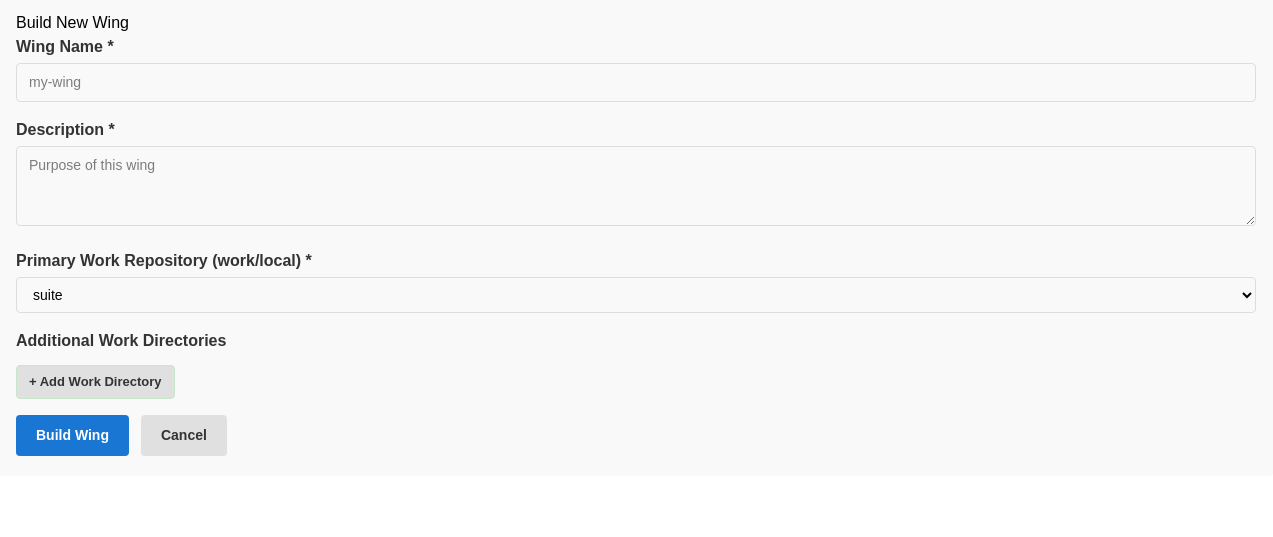
Scenario: WingCreateForm › shows error on failure
Type "new-wing" into the field labelled "Wing Name *" at (636, 82), box top-left (16, 63), bottom-right (1256, 102)
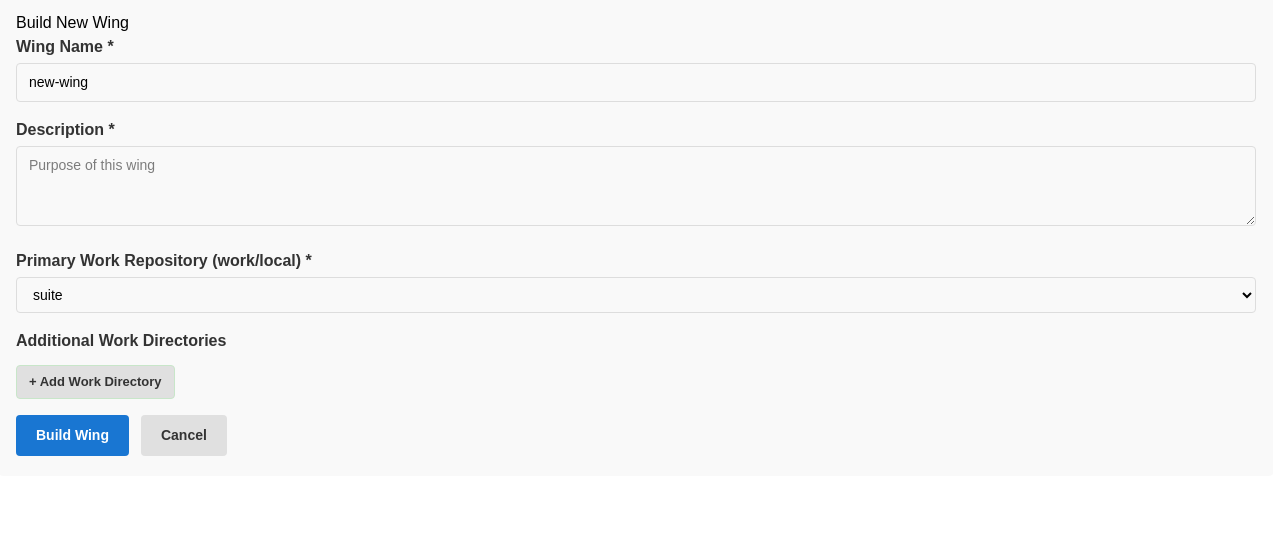
Type "A new wing" into the text box labelled "Description *" at (636, 186), box top-left (16, 146), bottom-right (1256, 226)
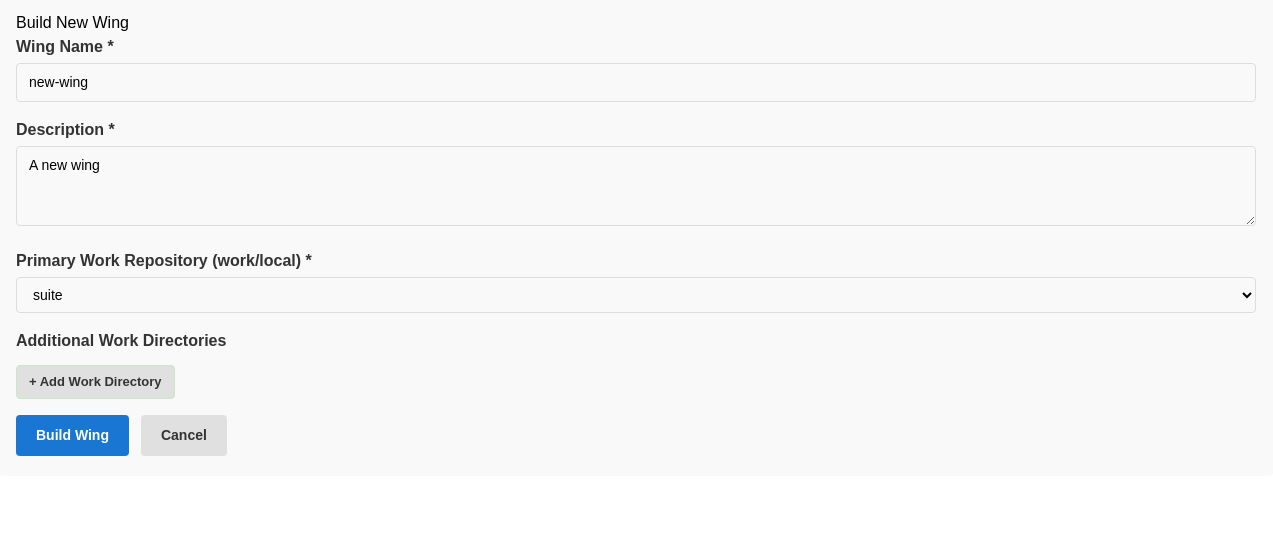
Submit the form
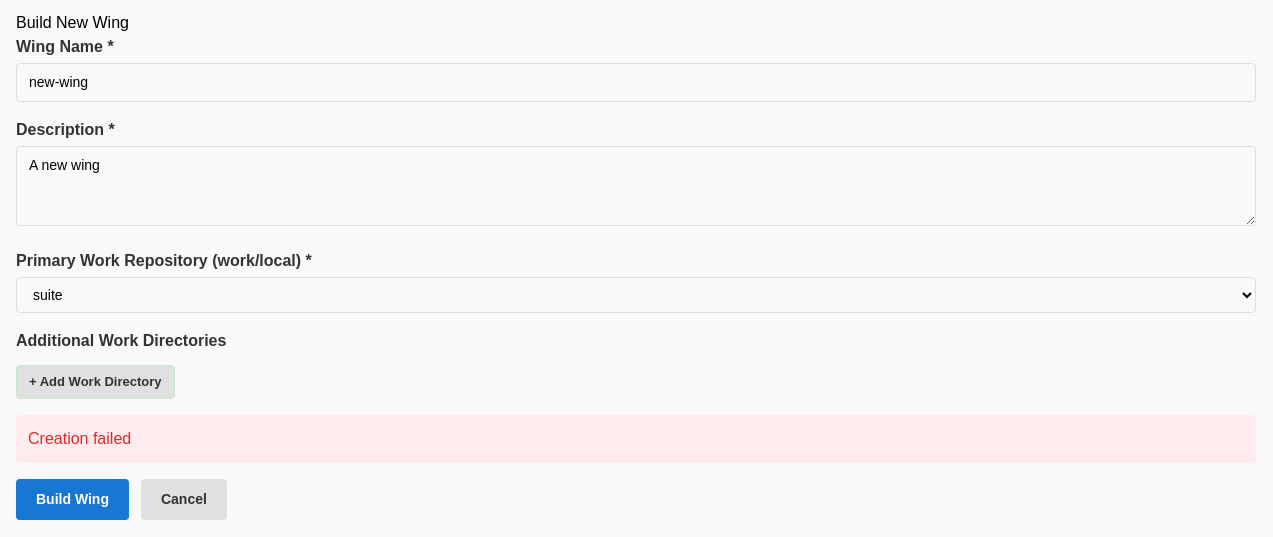
Now the text "Creation failed" is shown, box top-left (16, 414), bottom-right (1256, 462)
